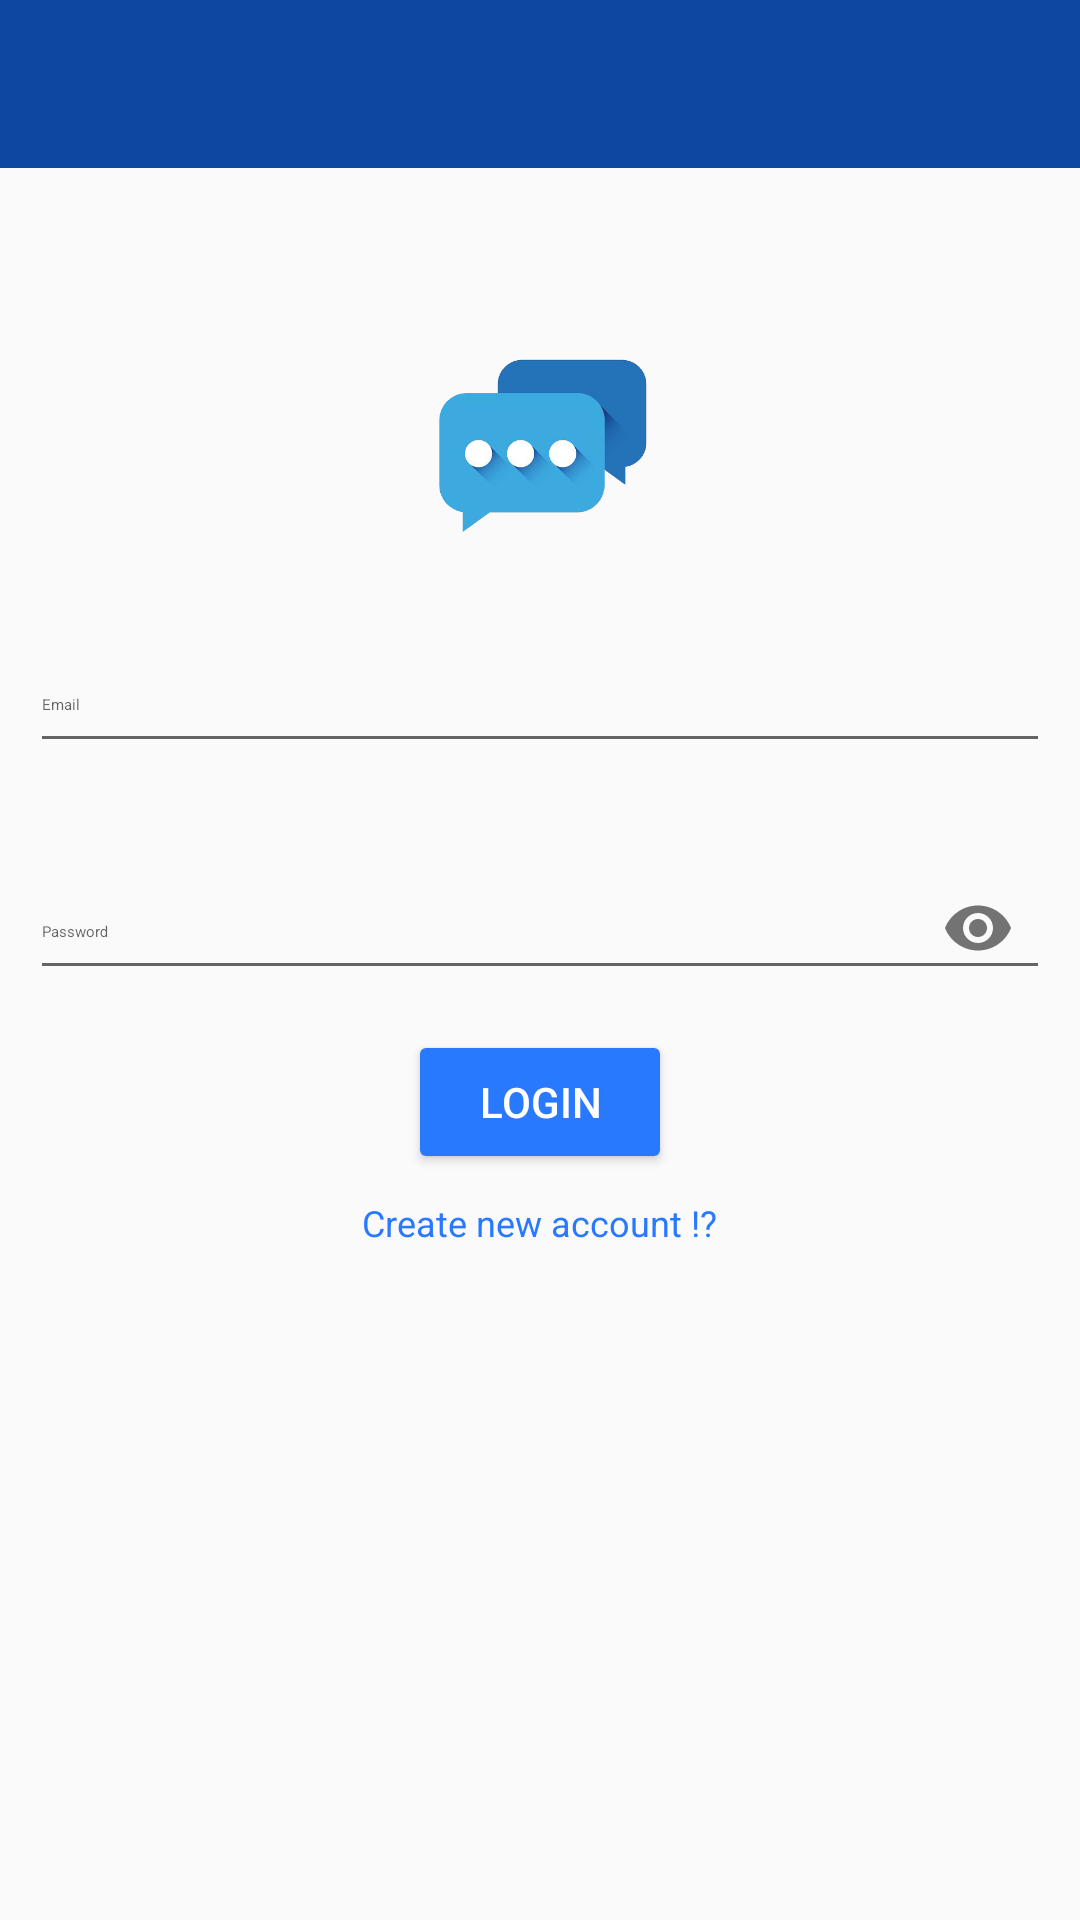

Icons on this 1080×1920 Android screen, each with its box as (x1, y1, x2, y2):
appicon: (439, 359, 647, 532)
